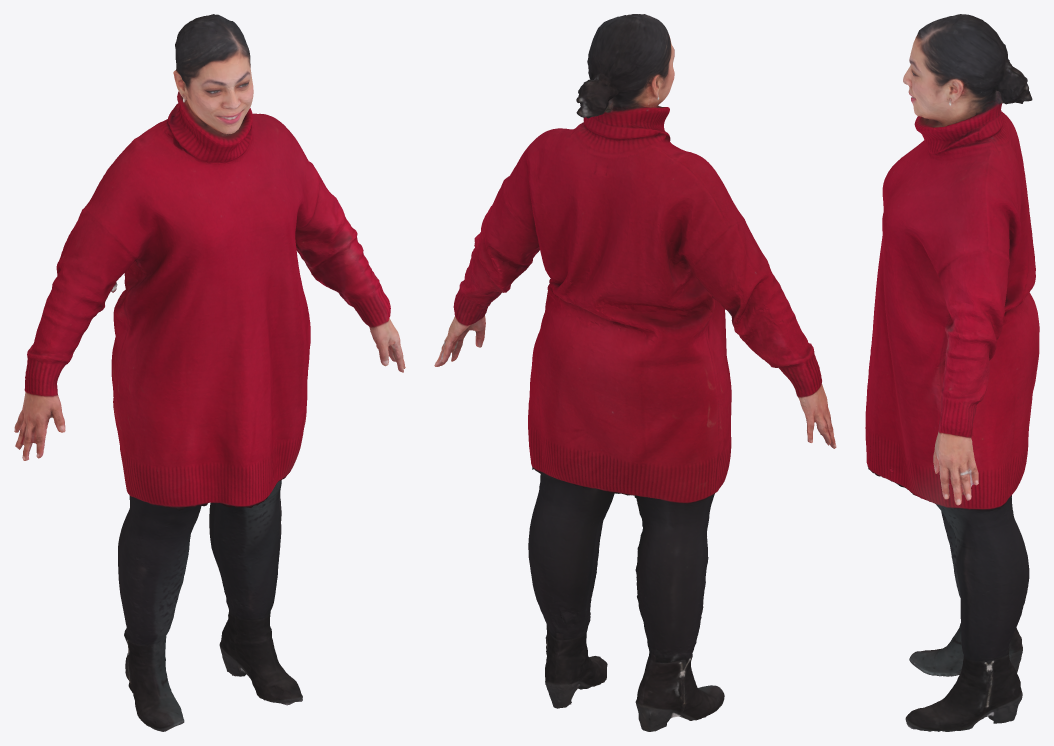
3 renders of one model, left to right at view 1: azimuth 30°, elevation 25°; view 2: azimuth 150°, elevation 25°; view 3: azimuth 270°, elevation 25°, orthographic.
Parts seen in each view (by area): view 1: Mesh_0_Part_0; view 2: Mesh_0_Part_0; view 3: Mesh_0_Part_0.
Boxes of the visible parts, x1=… form: Mesh_0_Part_0: x1=14, y1=14, x2=405, y2=731; Mesh_0_Part_0: x1=434, y1=14, x2=836, y2=731; Mesh_0_Part_0: x1=865, y1=14, x2=1039, y2=731.
Size of the model in its own units: 0.9872 by 1.64 by 0.3814.
1 material, 1 textured.
